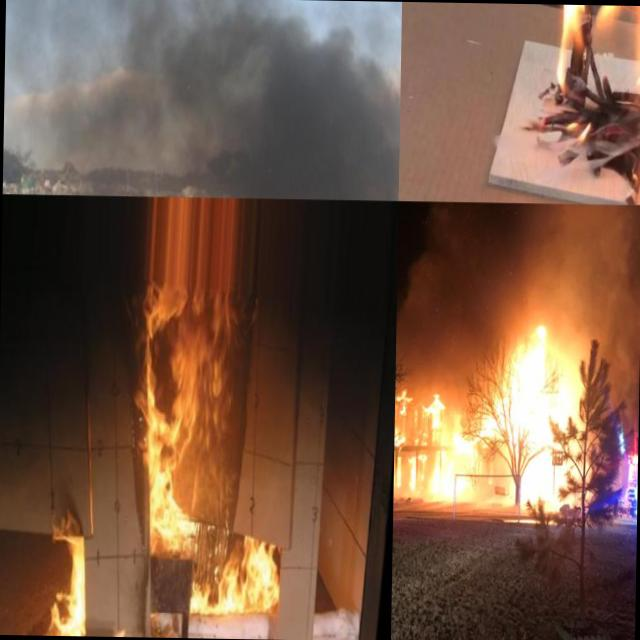fire: (132, 294, 245, 534), (454, 331, 584, 522), (547, 4, 640, 170), (188, 534, 284, 620), (393, 381, 456, 503), (43, 518, 94, 636)
smoke: (2, 0, 401, 200), (504, 202, 612, 332), (396, 200, 494, 330), (609, 204, 640, 434), (395, 329, 457, 381)
